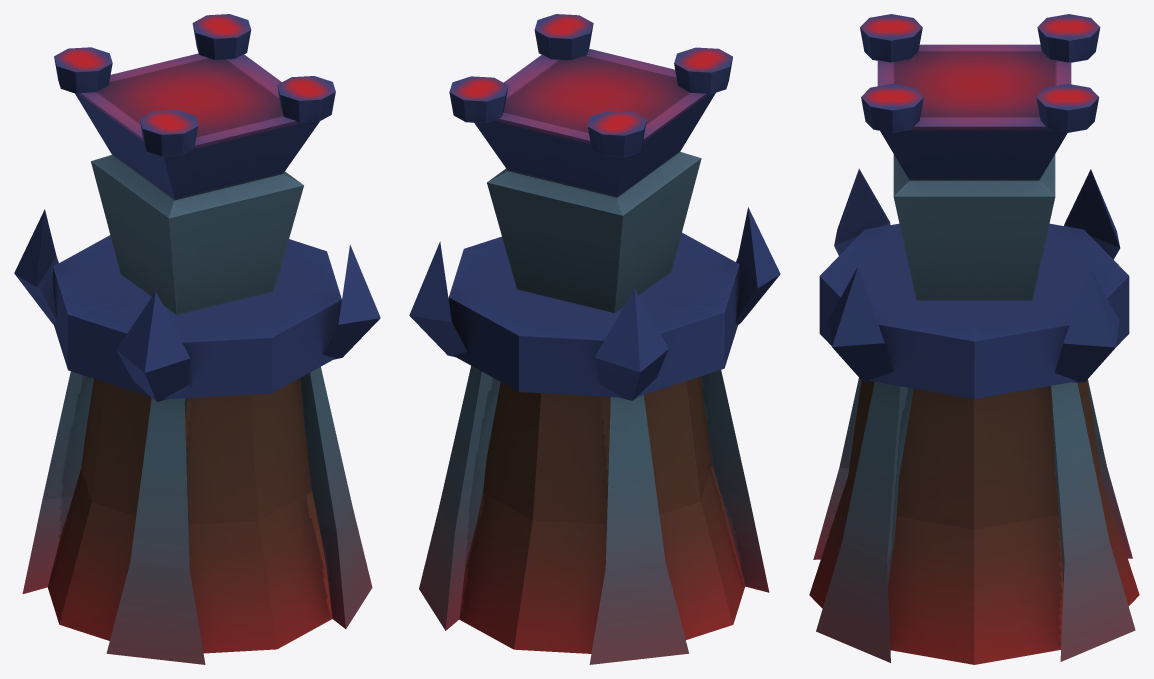
File: Live.fbx
3 views of the same model, side by side, from view 1: azimuth 30°, elevation 25°; view 2: azimuth 150°, elevation 25°; view 3: azimuth 270°, elevation 25° (orthographic). The views are drawn at different scales.
Visible parts, largest first — view 1: bing_1_5; view 2: bing_1_5; view 3: bing_1_5.
Boxes of the visible parts, left/top/right/bottom form: bing_1_5: left=14, top=14, right=380, bottom=664; bing_1_5: left=409, top=14, right=780, bottom=664; bing_1_5: left=809, top=14, right=1139, bottom=664.
Bounding box in the file's own units: 565 × 1006 × 565.
Materials: 1 (1 with a texture image).
